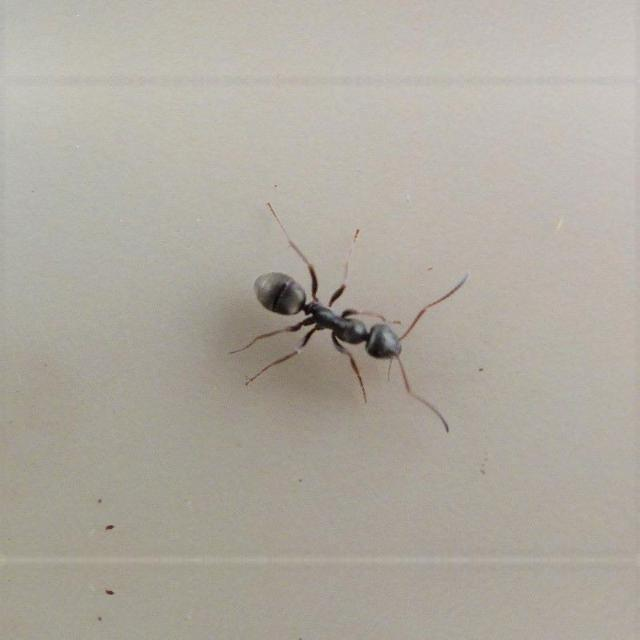Formica: (229, 237, 445, 389)
